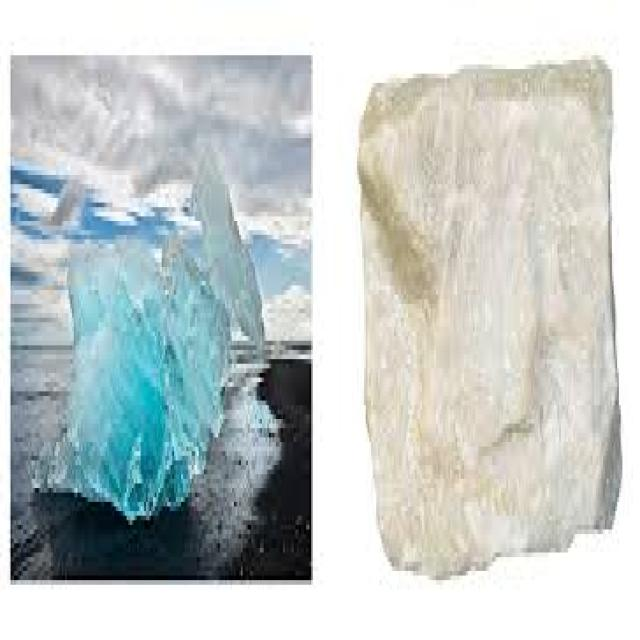Metamorphic: (355, 55, 626, 580), (25, 129, 283, 516)
